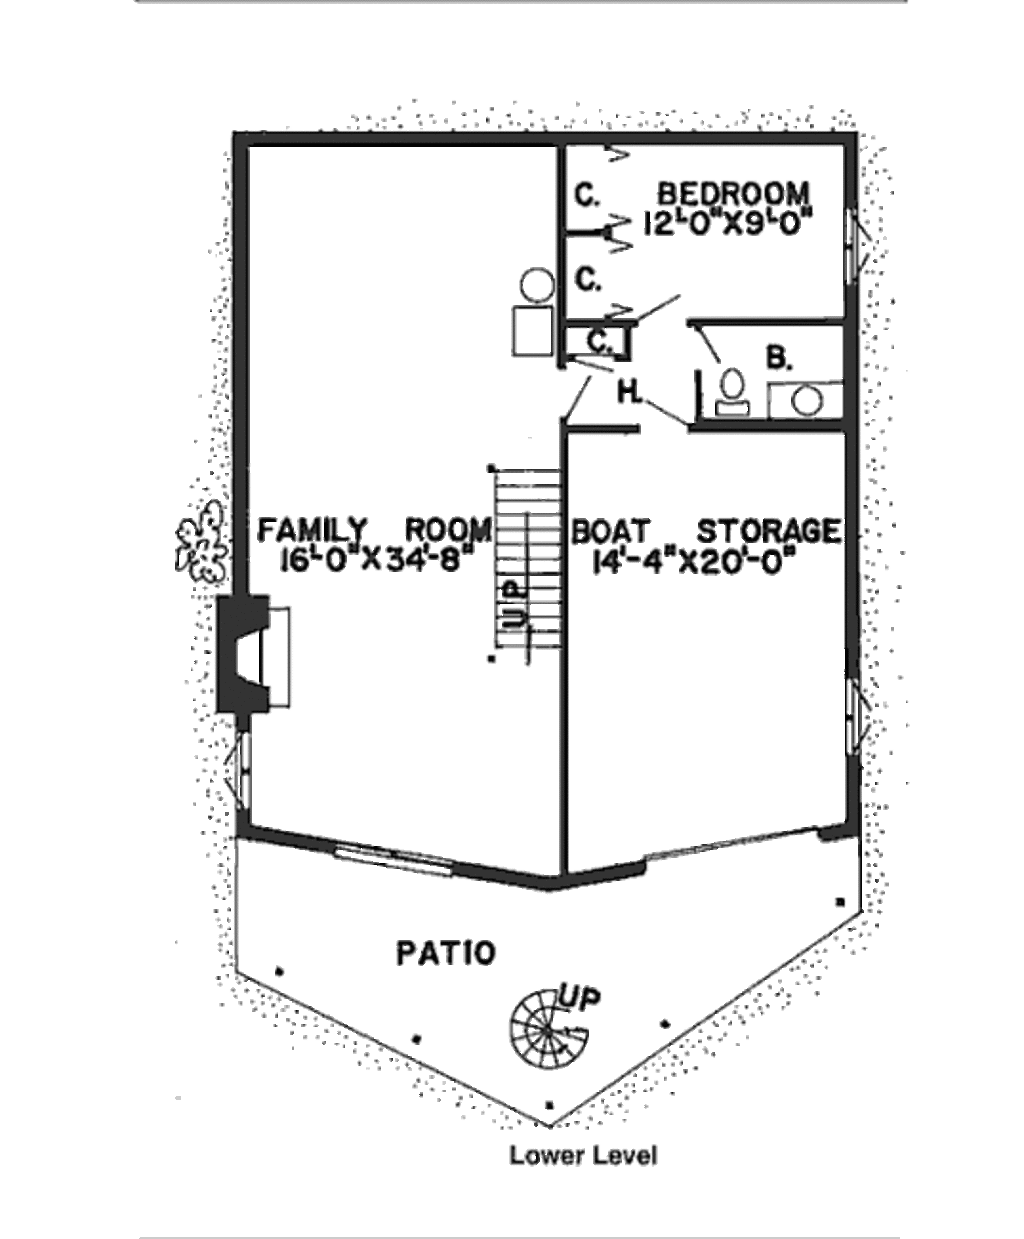large_sink: (701, 354, 760, 421)
small_sink: (774, 381, 851, 427)
stairs: (480, 459, 595, 677)
window: (607, 823, 826, 861), (336, 827, 470, 888), (834, 675, 891, 762), (824, 206, 887, 283)
